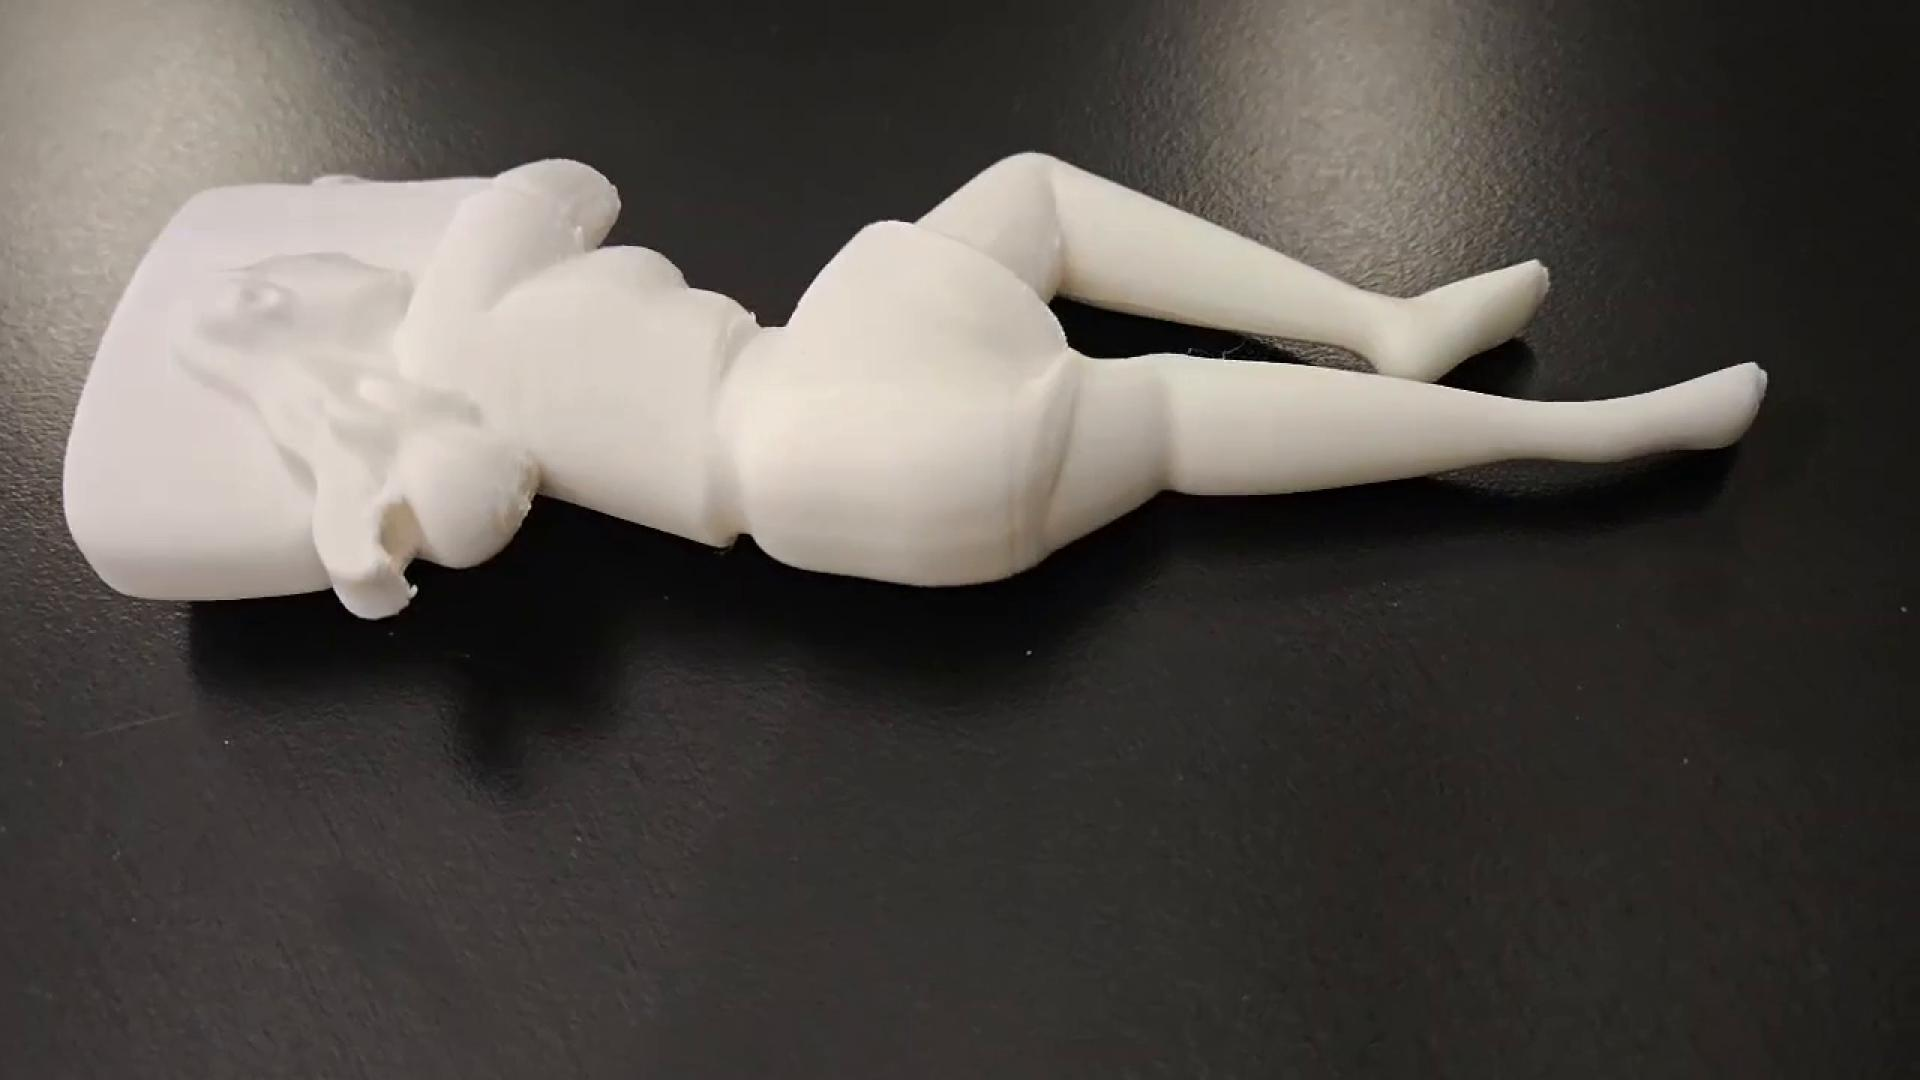Good-style: (51, 145, 1768, 636)
